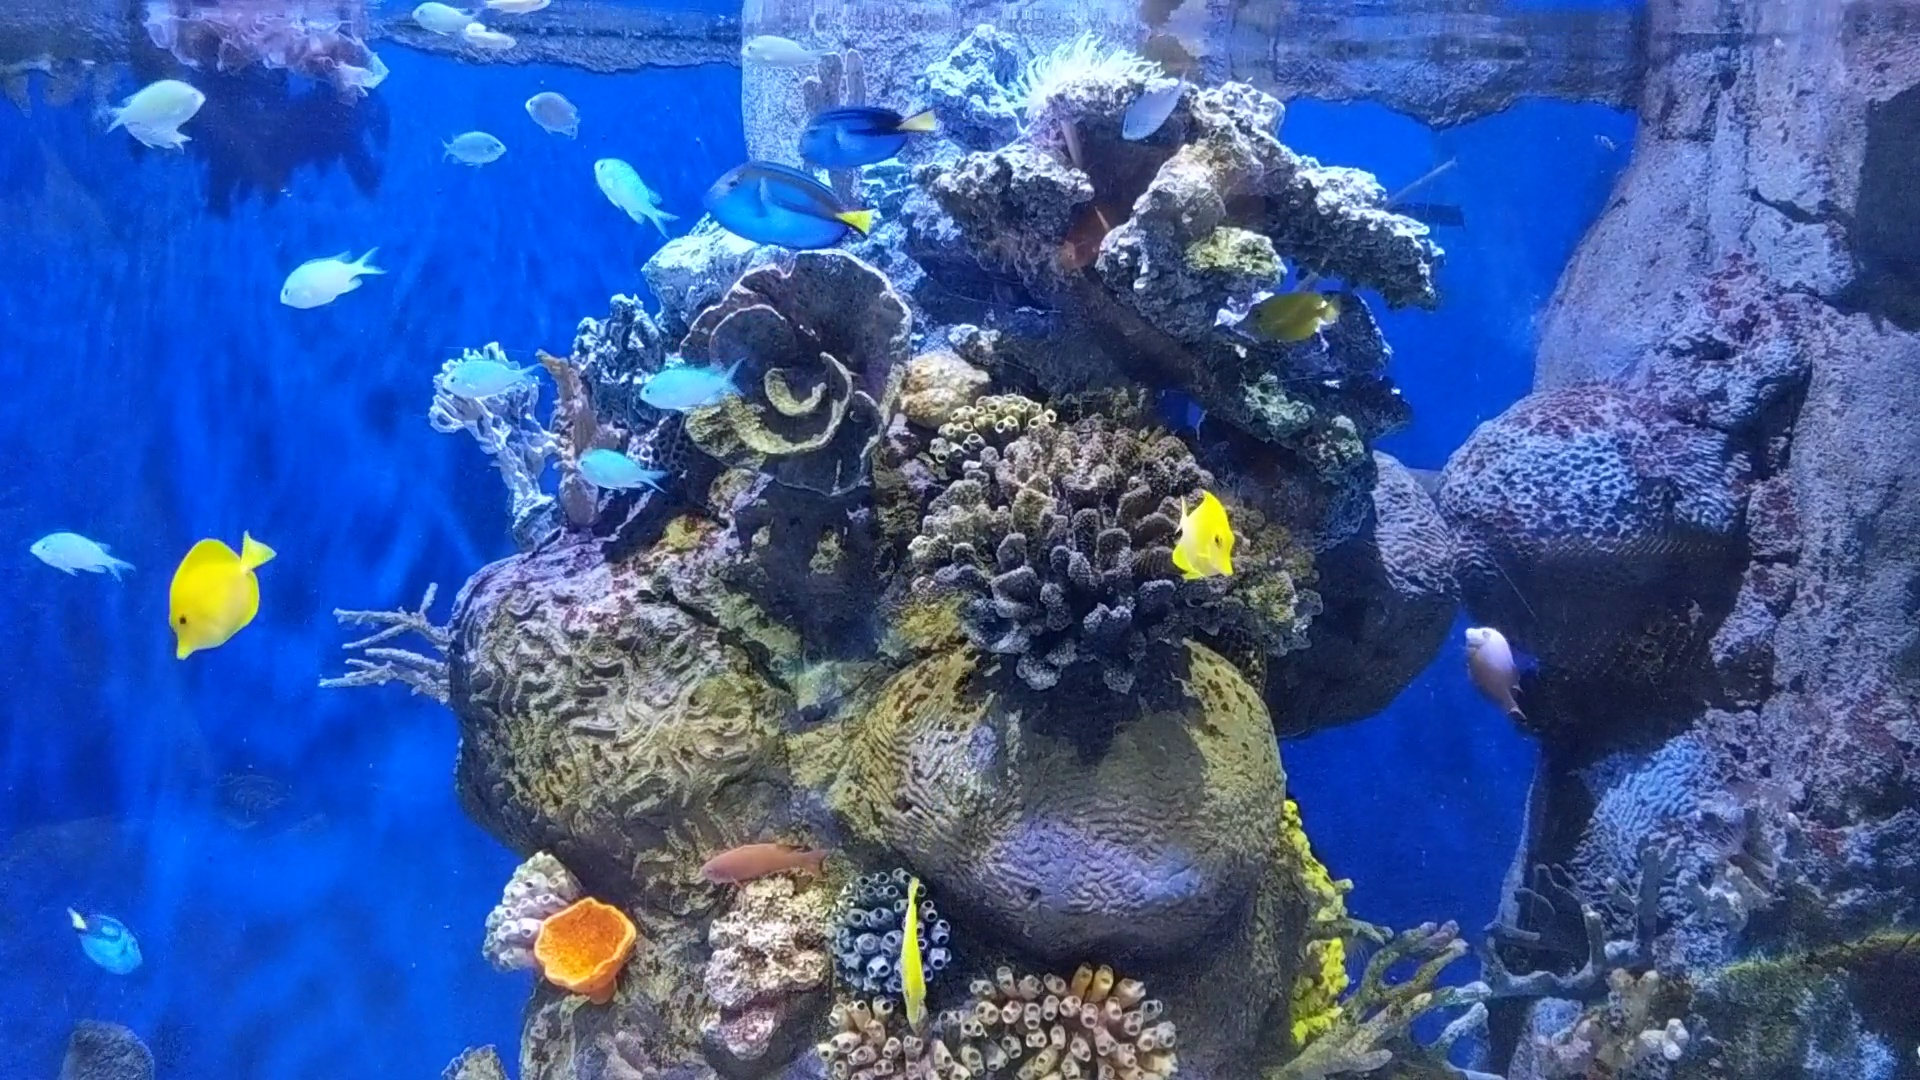blue tang surgeonfish: (699, 156, 891, 262), (787, 79, 942, 167), (59, 887, 156, 992)
damselfish: (94, 57, 210, 153), (582, 141, 684, 241), (264, 237, 386, 320), (21, 524, 145, 597), (558, 436, 676, 510), (630, 353, 749, 425), (433, 340, 546, 411), (1098, 71, 1195, 145), (522, 73, 597, 145), (729, 21, 825, 76), (446, 107, 514, 177), (411, 0, 483, 44)
pink fish: (1452, 600, 1542, 742)
saddle butterfly fish: (135, 506, 291, 662), (1160, 469, 1261, 603), (1234, 282, 1348, 342)
